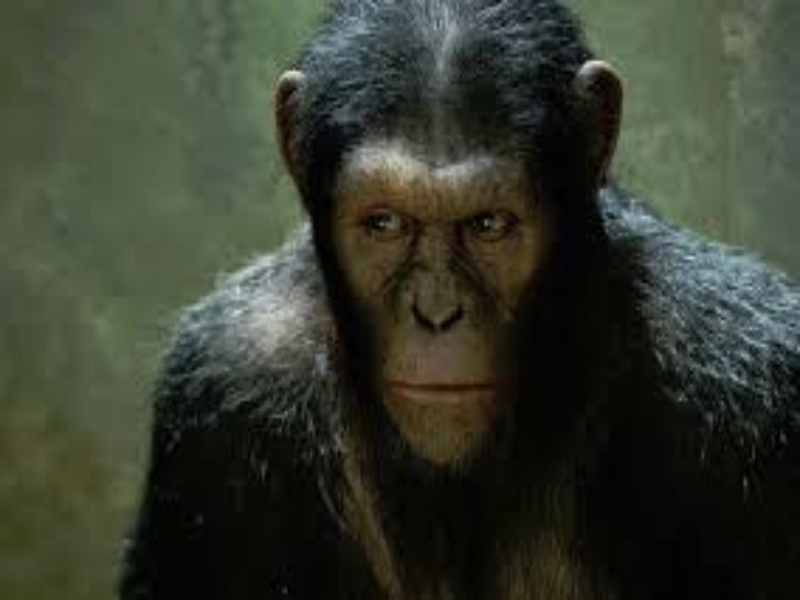monkey: (135, 1, 800, 600)
